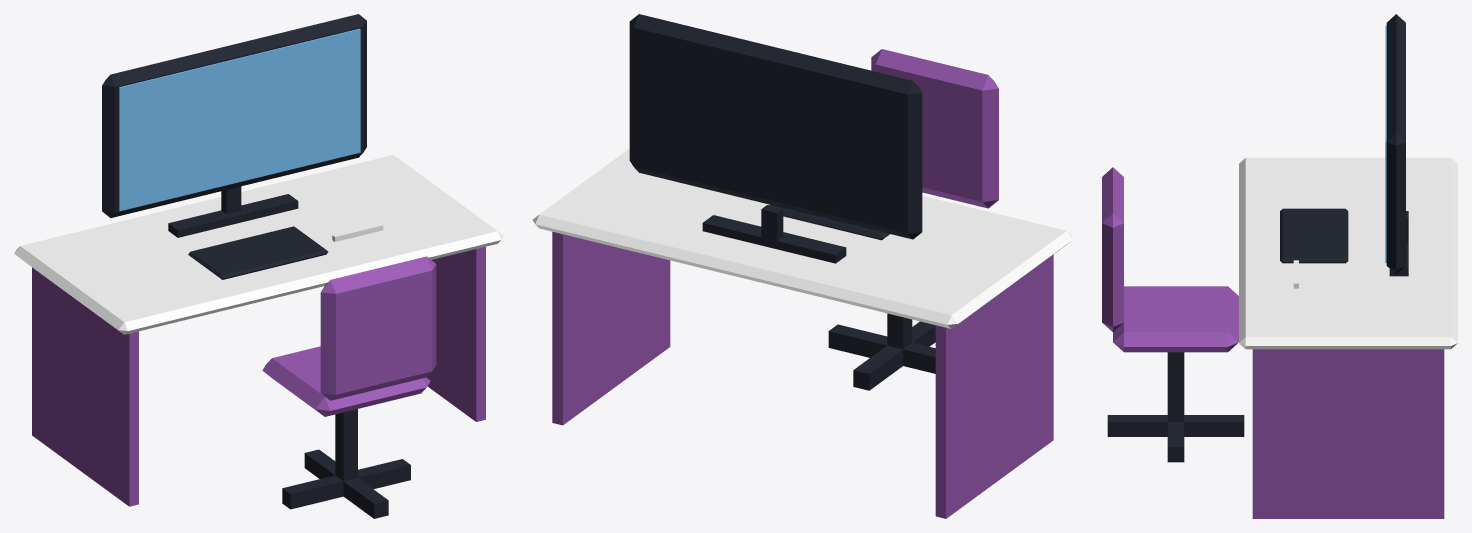
File: design-desk.glb
The picture shows the model from 3 angles, left to right: view 1: azimuth 30°, elevation 25°; view 2: azimuth 150°, elevation 25°; view 3: azimuth 270°, elevation 25°; orthographic projection. The views are drawn at different scales.
Parts seen in each view (by area): view 1: design_desk; view 2: design_desk; view 3: design_desk.
Boxes of the visible parts, box(x1,y1,x2,y2) form: design_desk: box(14, 14, 503, 518); design_desk: box(533, 14, 1073, 518); design_desk: box(1102, 14, 1457, 518).
Size of the model in its own units: 1.6 by 1.45 by 1.3.
